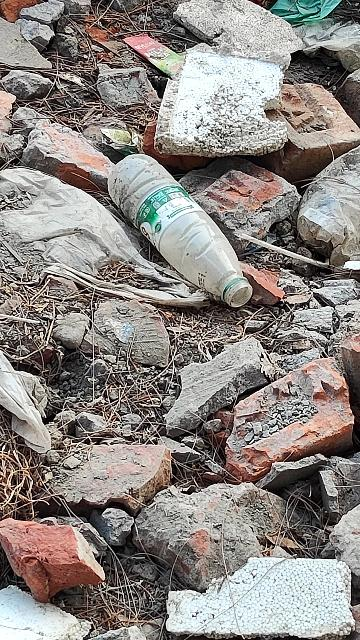bottle: (97, 137, 264, 325)
